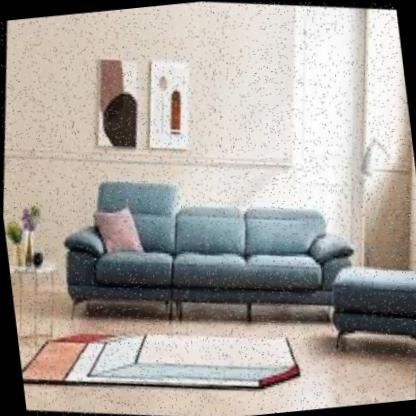Sofa: (28, 137, 373, 377)
